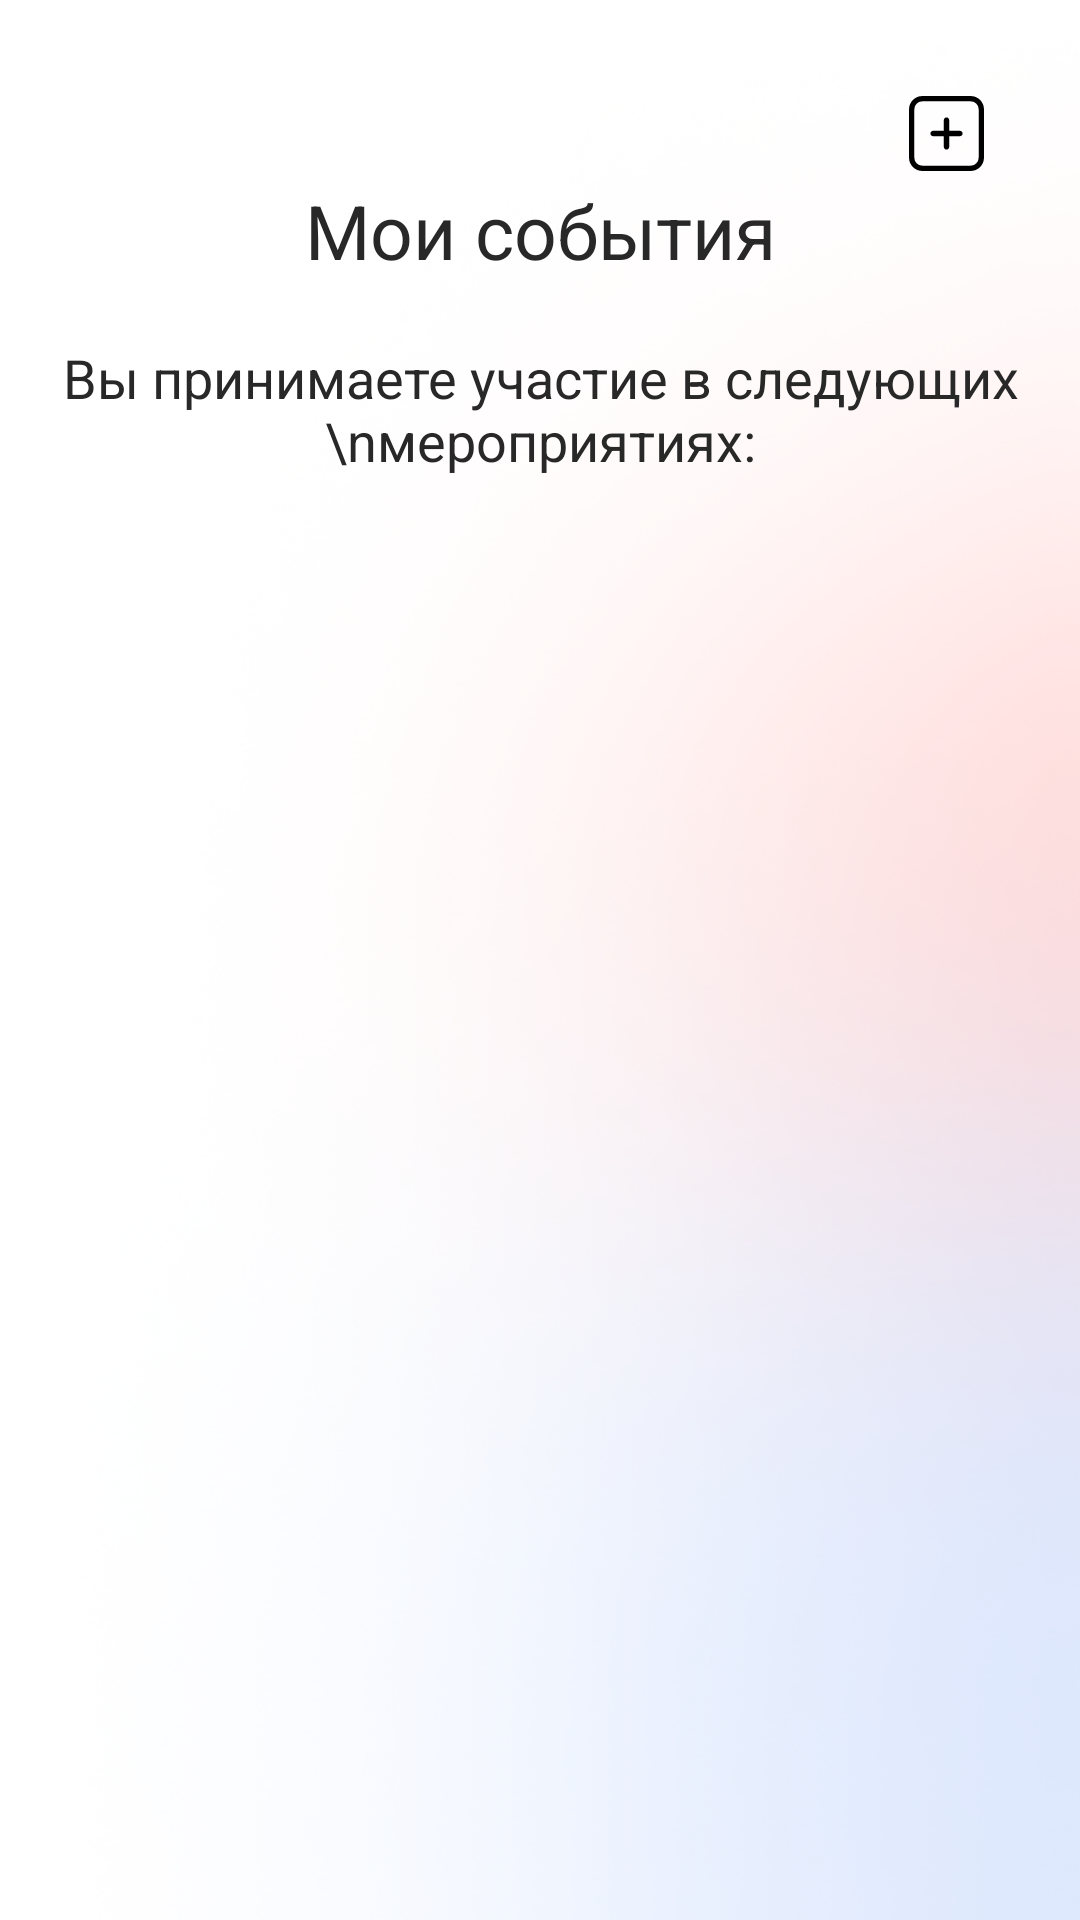

Icon click points for this 1080x1920 phone screenshot, format (x,y):
add game: (946,133)
